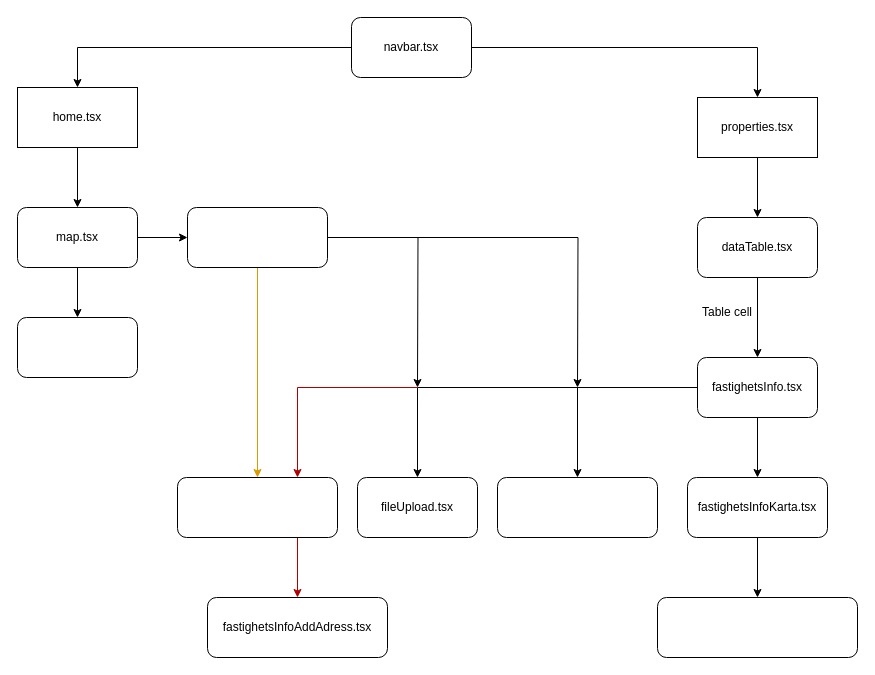
The diagram is 875 pixels wide and 675 high, and some of its shapes have lost their labels. The shapes that lost their labels are listed below. From the top down, each one's centre as x and y in pixels, then its label:
the point at 257,237: fastighetsInfoKartvy.tsx
the point at 77,347: propertiesForm.tsx
the point at 257,507: fastighetsInfoAdresser.tsx
the point at 577,507: fastighetsInfoVariabler.tsx
the point at 757,627: fastighetsInfoRedigeraPolygon.tsx
